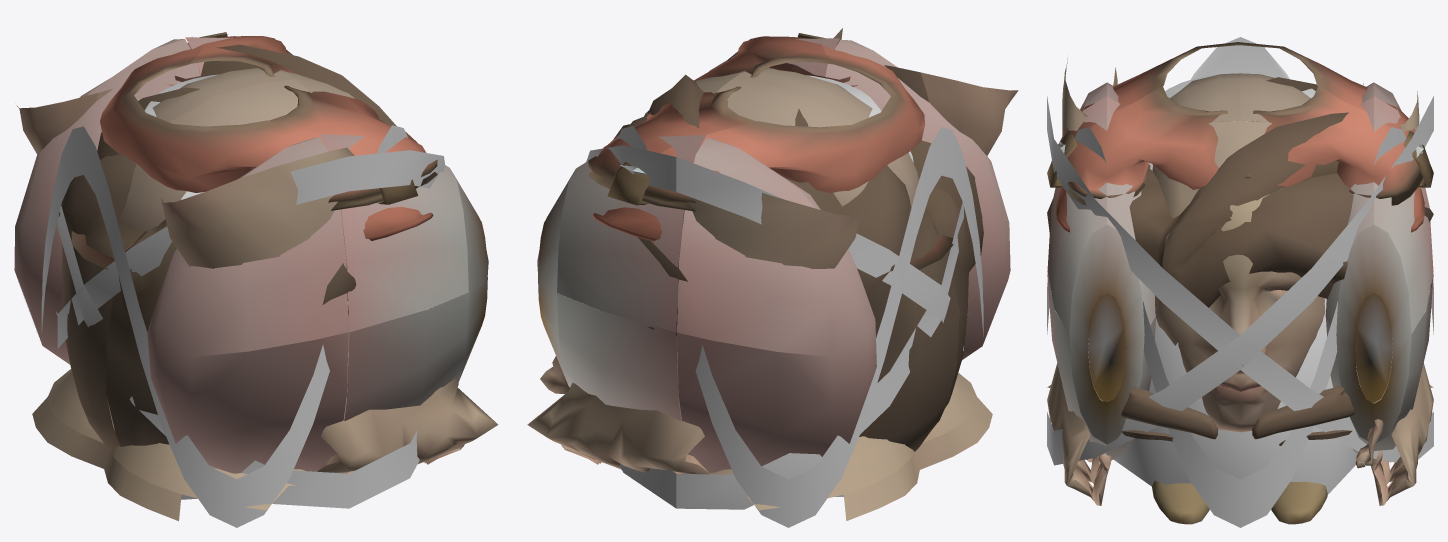
3 renders of one model, left to right at view 1: azimuth 30°, elevation 25°; view 2: azimuth 150°, elevation 25°; view 3: azimuth 270°, elevation 25°, orthographic.
Visible parts, largest first — view 1: tex:eye, tex:hands, tex:peasant, tex:hair1, tex:skin, white, gold; view 2: tex:eye, tex:peasant, tex:hands, tex:hair1, tex:skin, white, gold; view 3: tex:eye, tex:hair1, tex:peasant, tex:skin, white, black, gold, tex:hands.
Part boxes in pixels (x1,y1,x2,y2): tex:eye: [14, 37, 488, 473]; tex:hands: [16, 88, 498, 473]; tex:peasant: [71, 32, 437, 269]; tex:hair1: [59, 44, 396, 451]; tex:skin: [32, 68, 354, 521]; white: [57, 150, 444, 508]; gold: [41, 125, 407, 527]; tex:eye: [537, 38, 1010, 472]; tex:peasant: [588, 33, 953, 269]; tex:hands: [527, 28, 1018, 474]; tex:hair1: [614, 74, 983, 451]; tex:skin: [644, 68, 992, 521]; white: [586, 145, 963, 509]; gold: [617, 126, 983, 527]; tex:eye: [1047, 82, 1433, 460]; tex:hair1: [1047, 77, 1433, 445]; tex:peasant: [1047, 42, 1433, 524]; tex:skin: [1047, 73, 1433, 432]; white: [1047, 96, 1433, 465]; black: [1057, 37, 1423, 494]; gold: [1047, 127, 1433, 527]; tex:hands: [1047, 58, 1433, 505].
Bounding box in the file's own units: 65535 × 65535 × 65535.
